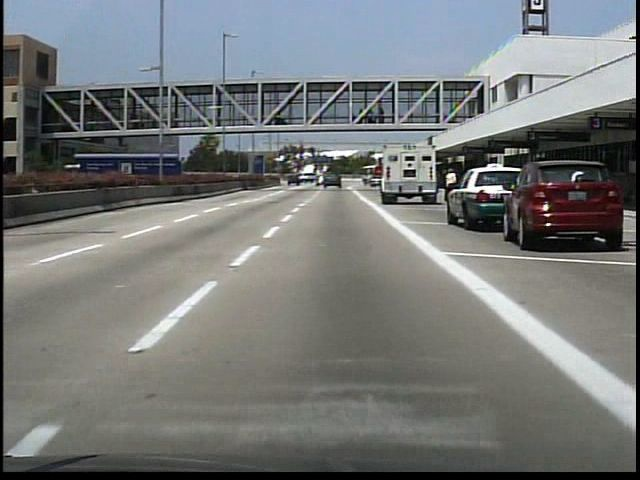person: (443, 168, 459, 209)
